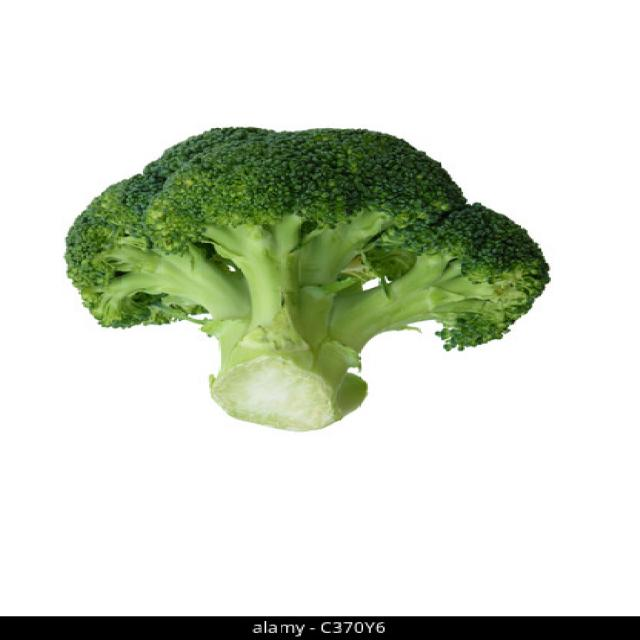broccoli: (57, 122, 554, 432)
